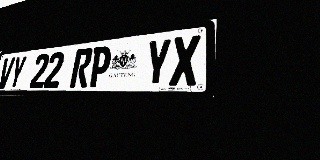2: (43, 51, 65, 88), (29, 53, 50, 88)
P: (87, 45, 113, 87)
R: (69, 48, 94, 88)
V: (0, 57, 15, 89)
X: (169, 34, 201, 86)
Y: (142, 38, 172, 86), (7, 56, 27, 89)
